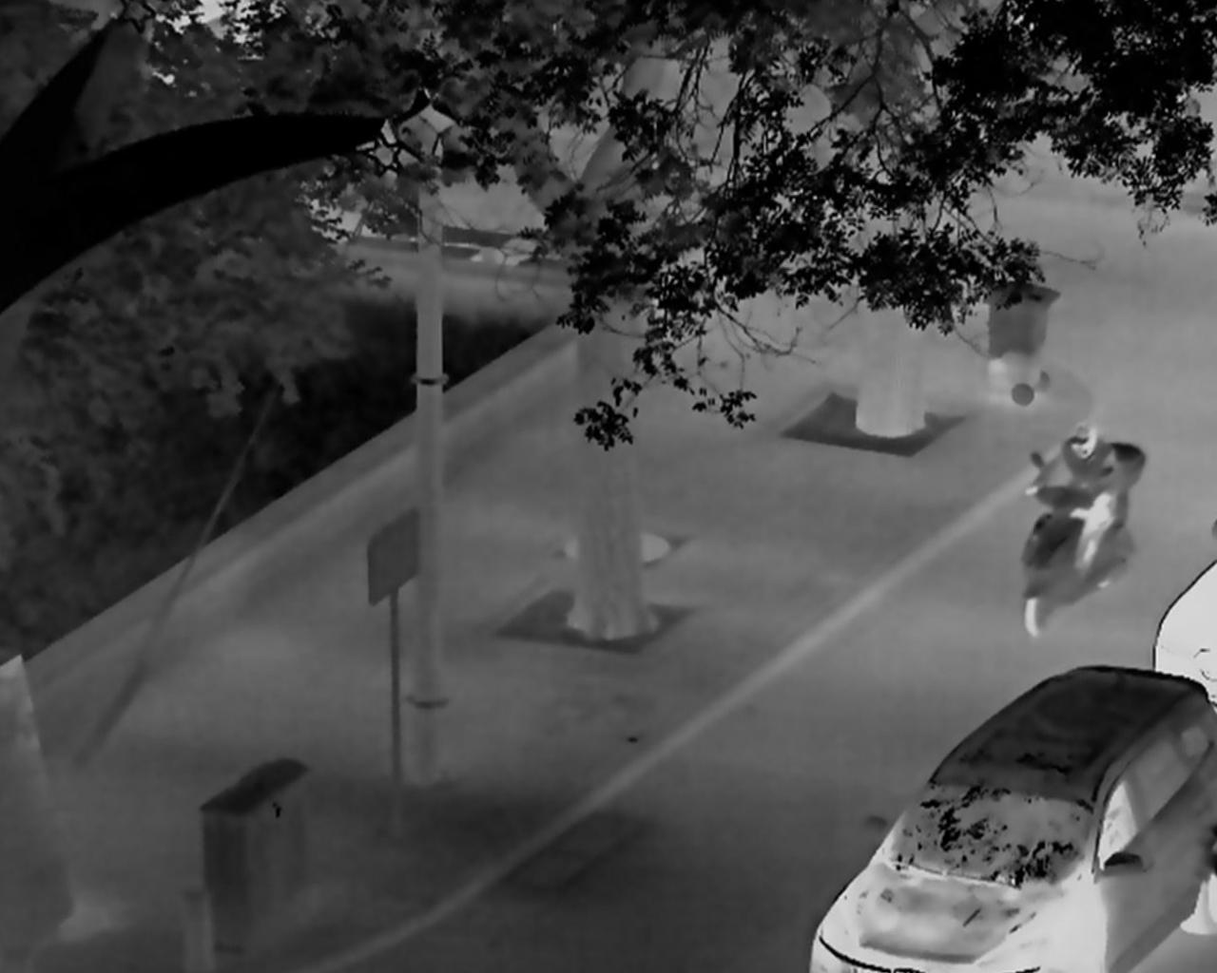person: (1022, 423, 1119, 578)
